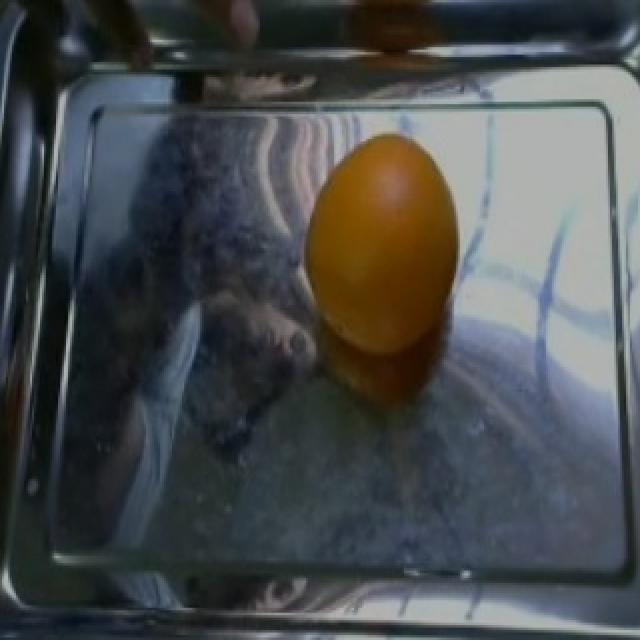Fruit: (292, 119, 464, 365)
